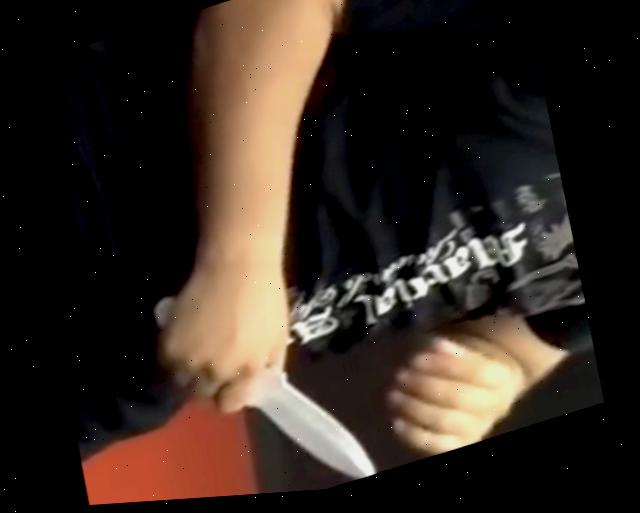pocket-knife: (135, 224, 400, 505)
